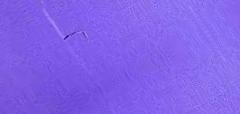snag: (60, 26, 92, 46)
